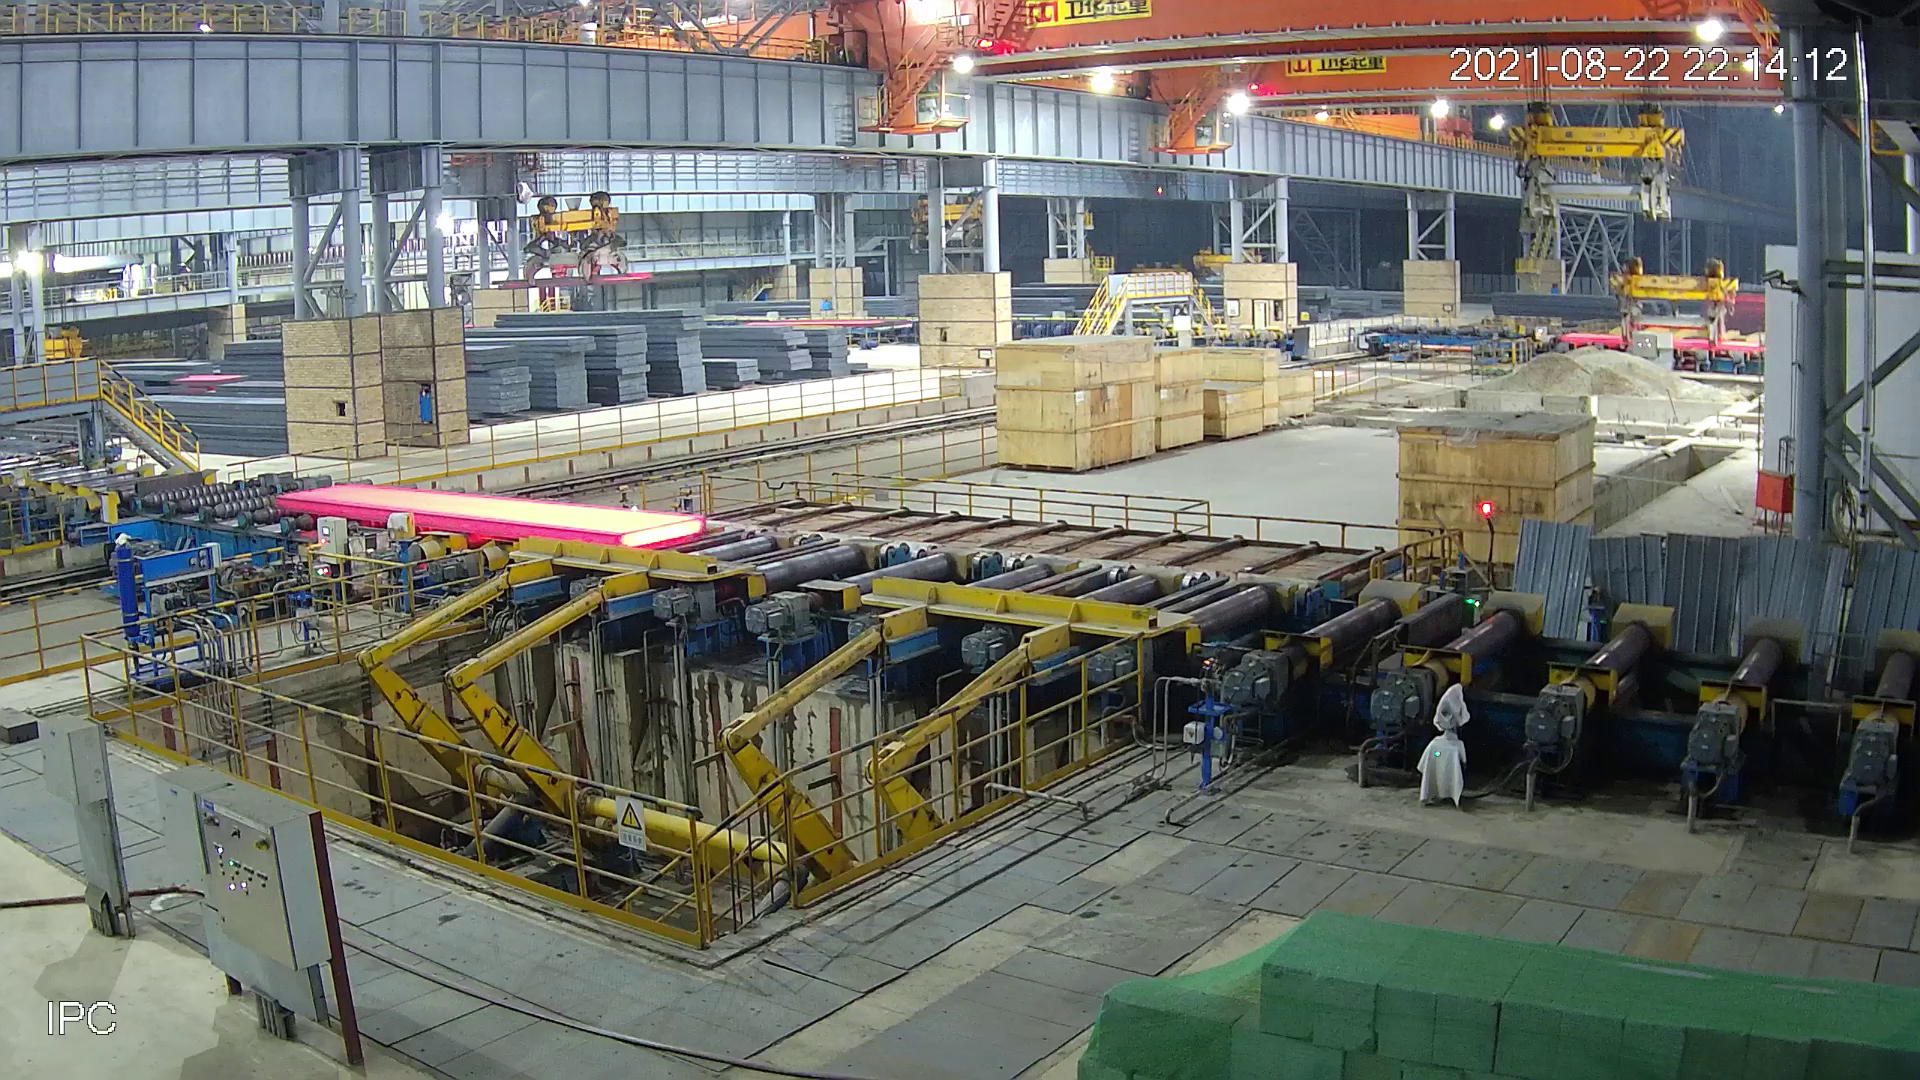slab: (273, 483, 708, 546)
